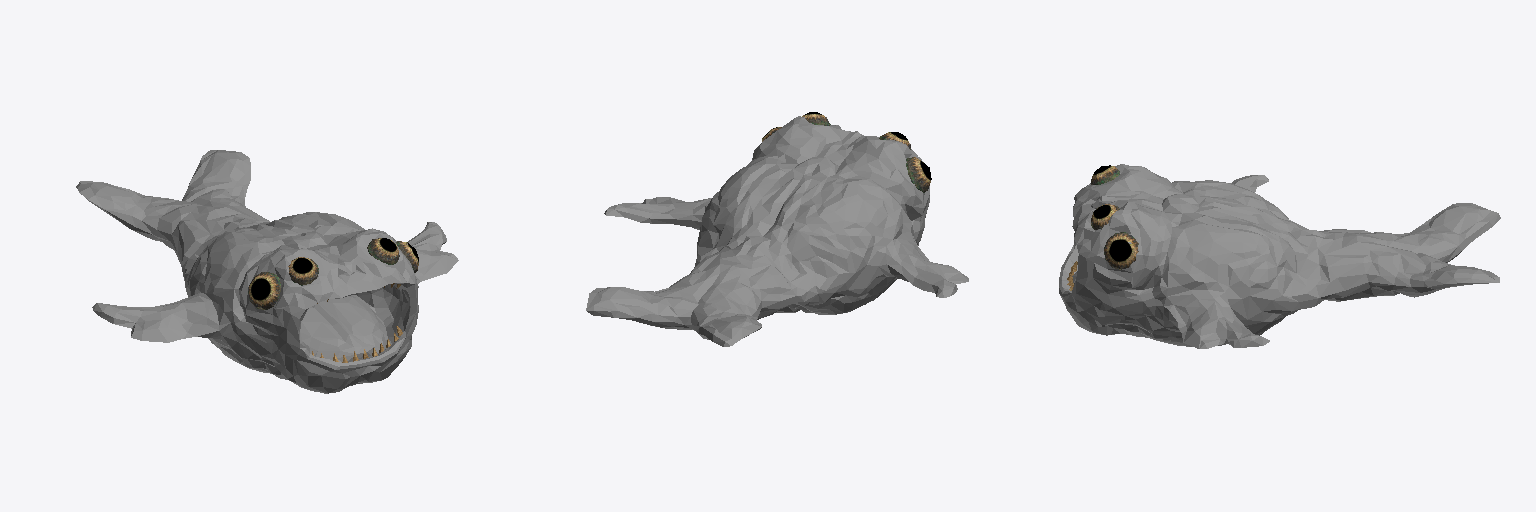
3 renders of one model, left to right at view 1: azimuth 30°, elevation 25°; view 2: azimuth 150°, elevation 25°; view 3: azimuth 270°, elevation 25°, orthographic.
Parts seen in each view (by area): view 1: Fish; view 2: Fish; view 3: Fish.
Part boxes in pixels (left/top/right/bottom): Fish: left=76, top=150, right=458, bottom=393; Fish: left=586, top=112, right=968, bottom=346; Fish: left=1059, top=164, right=1500, bottom=348.
Bounding box in the file's own units: 349 × 136 × 388.
Materials: 3 (2 with a texture image).